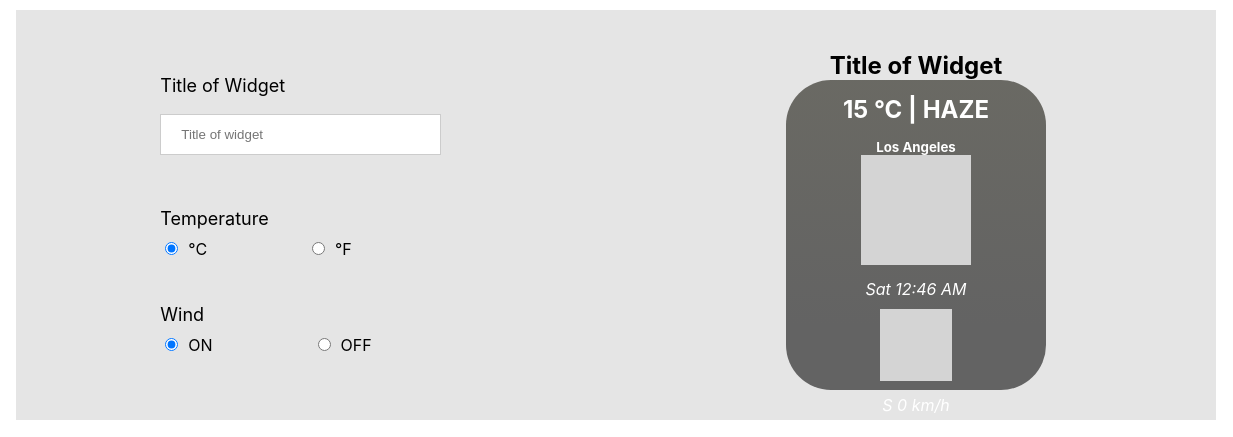
Test: Widget component › should show the changed widget title when user changes it in the input box.
Expected: the heading "15 °C | haze" is shown, [843,94,989,124]
Step 1. Type "Rafael" into the field → point(300, 134), box [160,114,441,155]
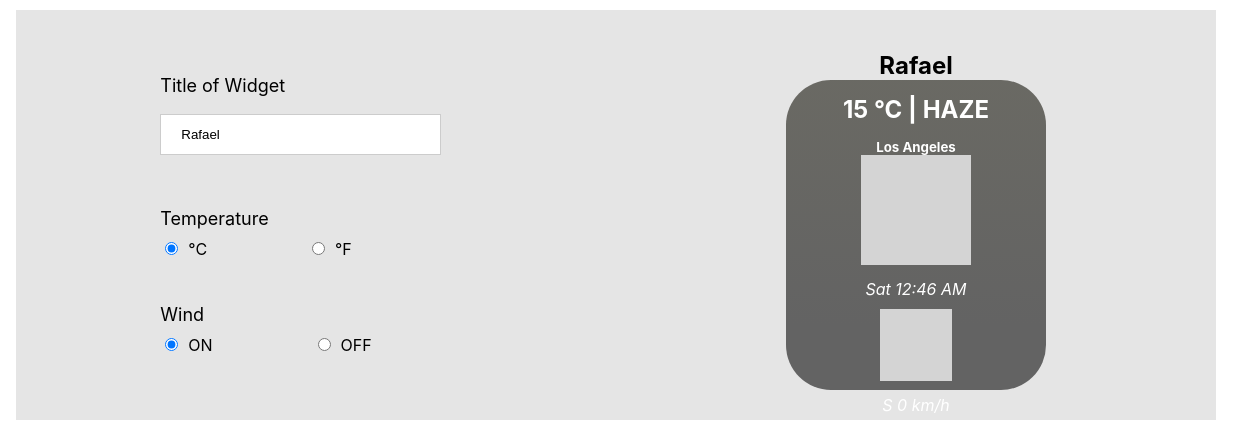
Expected: the heading "15 °C | haze" is shown, [843,94,989,124]
Result: the heading "Rafael" is shown at [879,50,953,80]
Step 2. Clear the field → point(300, 134), box [160,114,441,155]
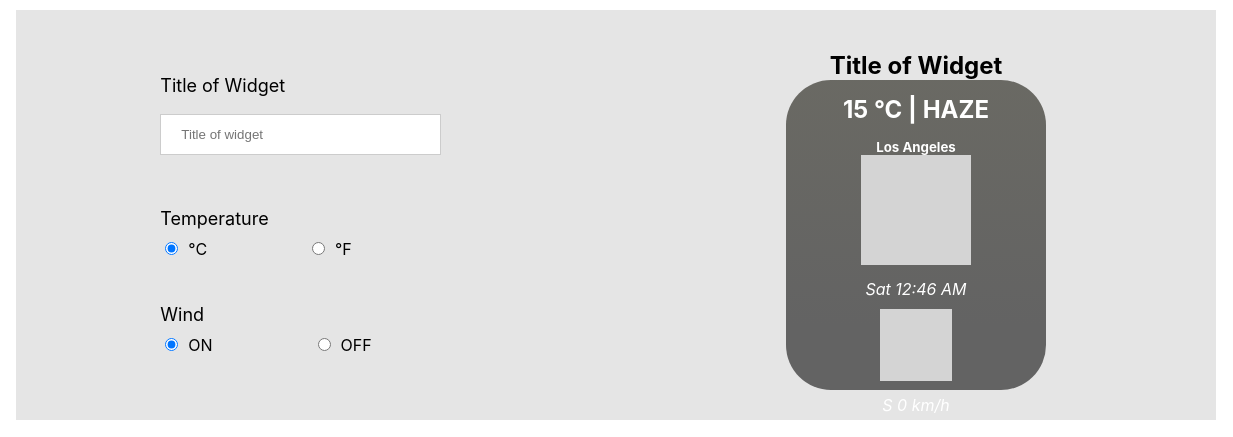
Result: the heading "Title of Widget" is shown at [830,50,1002,80]
